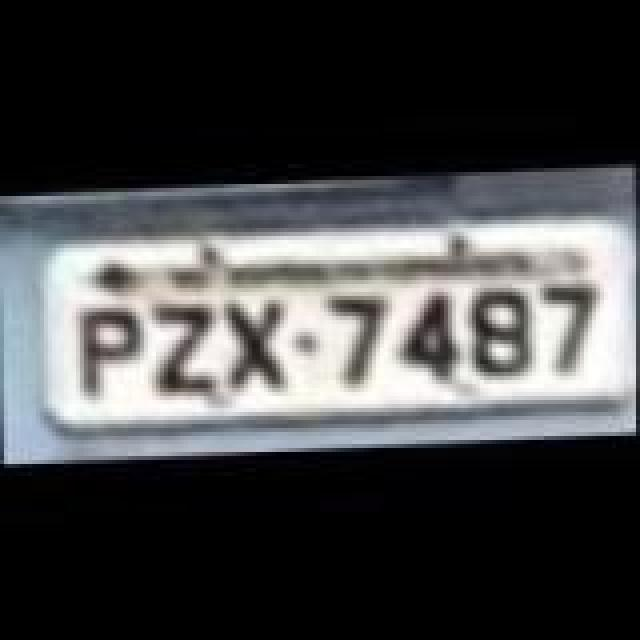4: (394, 284, 466, 392)
7: (530, 278, 602, 382), (320, 292, 388, 392)
8: (466, 284, 538, 388)
P: (66, 298, 138, 402)
X: (228, 296, 300, 396)
Z: (150, 300, 218, 400)
